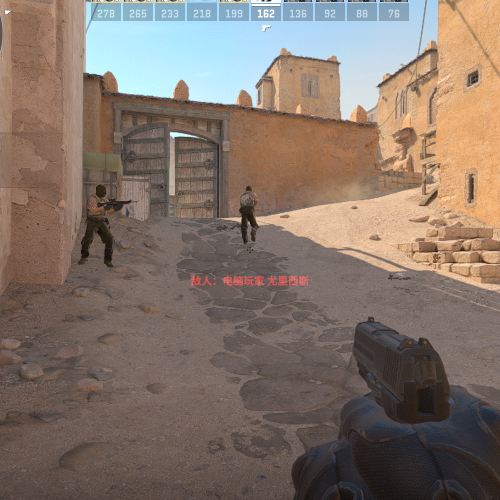t_body: (81, 184, 115, 268), (238, 185, 258, 244)
t_head: (96, 184, 107, 199), (245, 185, 252, 193)
